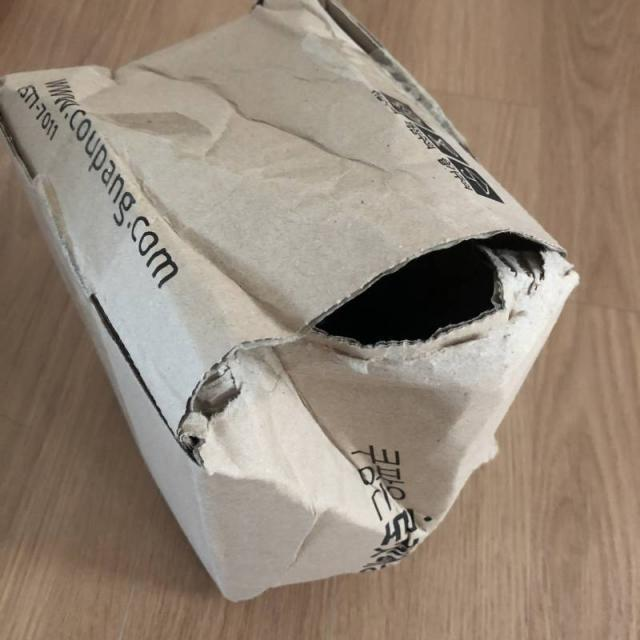damaged: (305, 231, 566, 381)
